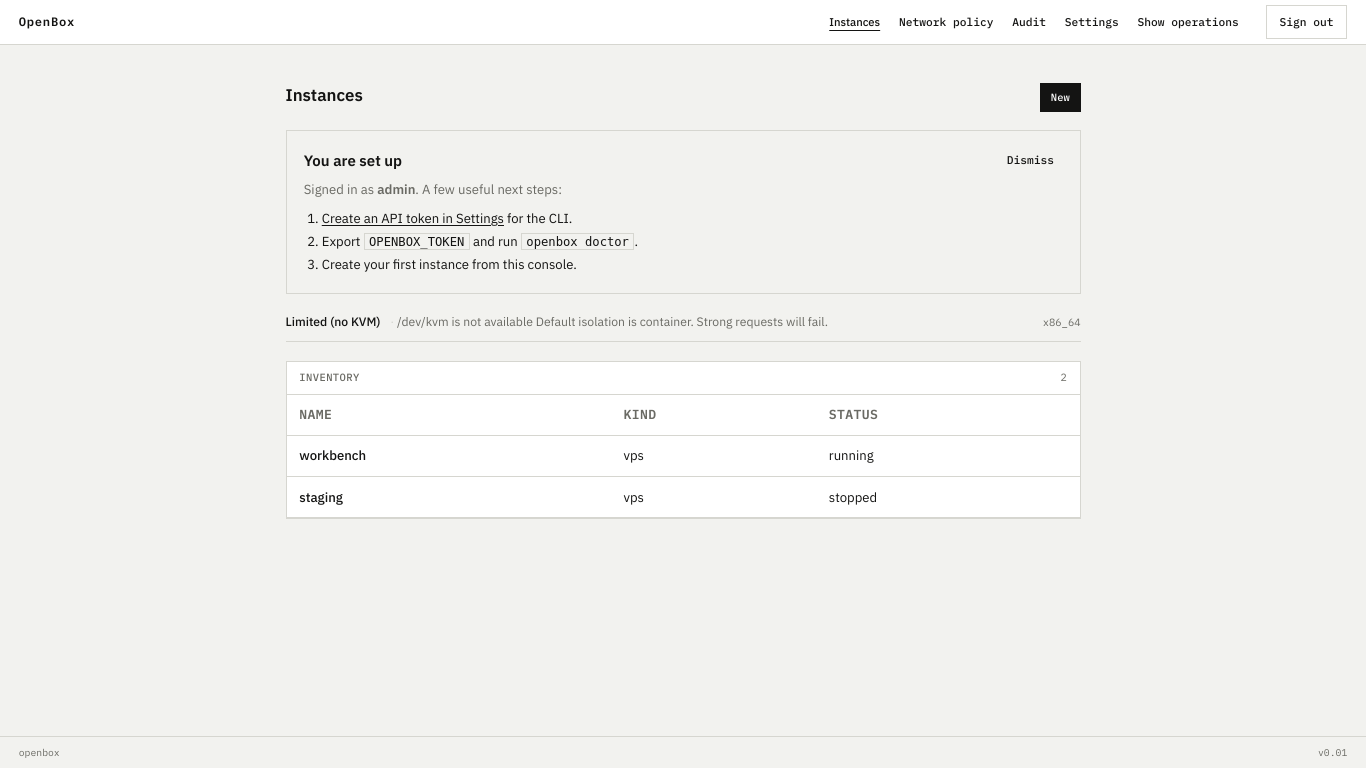
Test case: App › offers a uniquely named open-terminal action per instance
This screenshot has width=1366, height=768.
Expected: the button "staging" is shown, [299,488,343,506]
Step 1. Click the button "workbench" → click(333, 456), box [299,446,366,466]
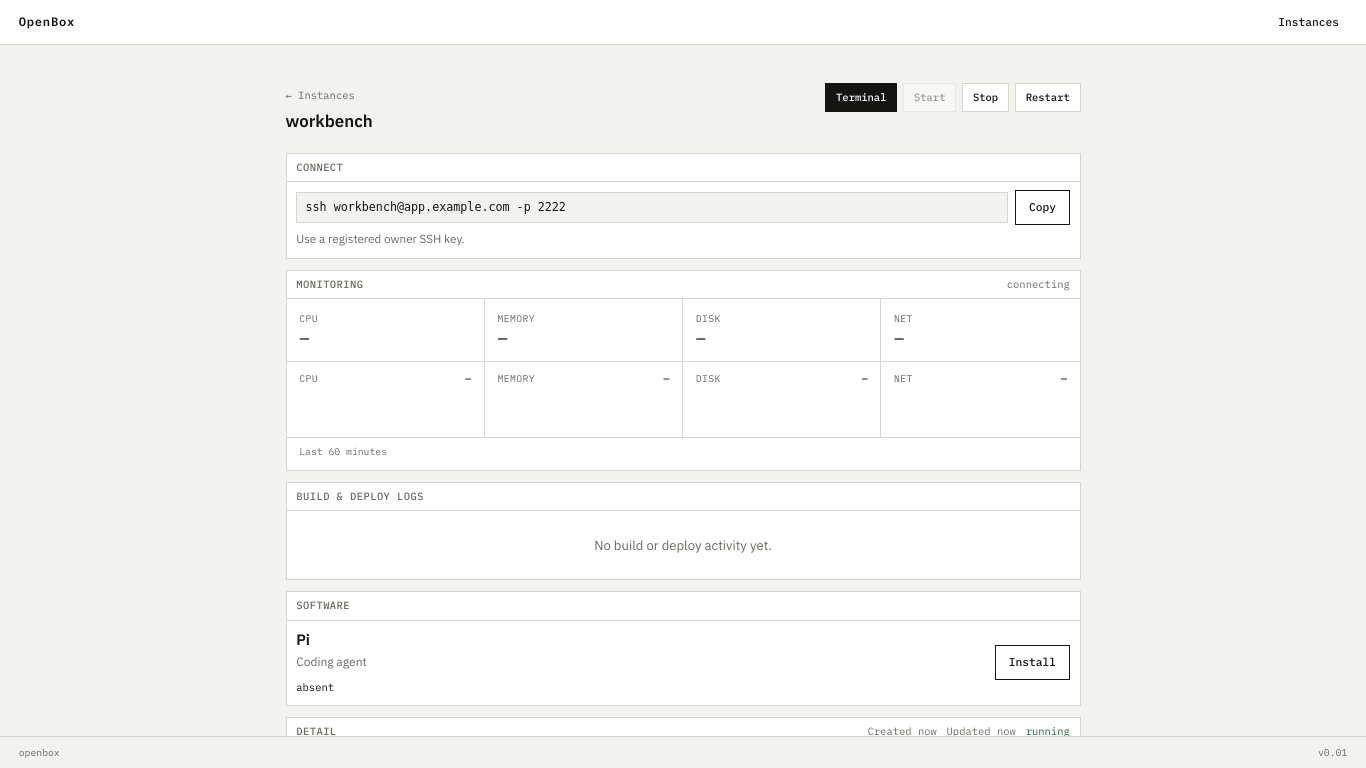
Now the heading "workbench" is shown, box [286,110,373,134]
Now the button "Terminal" is shown, box [825,82,897,112]
